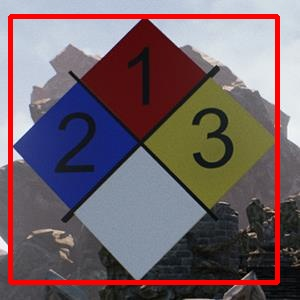nfpa: (10, 16, 277, 282)
